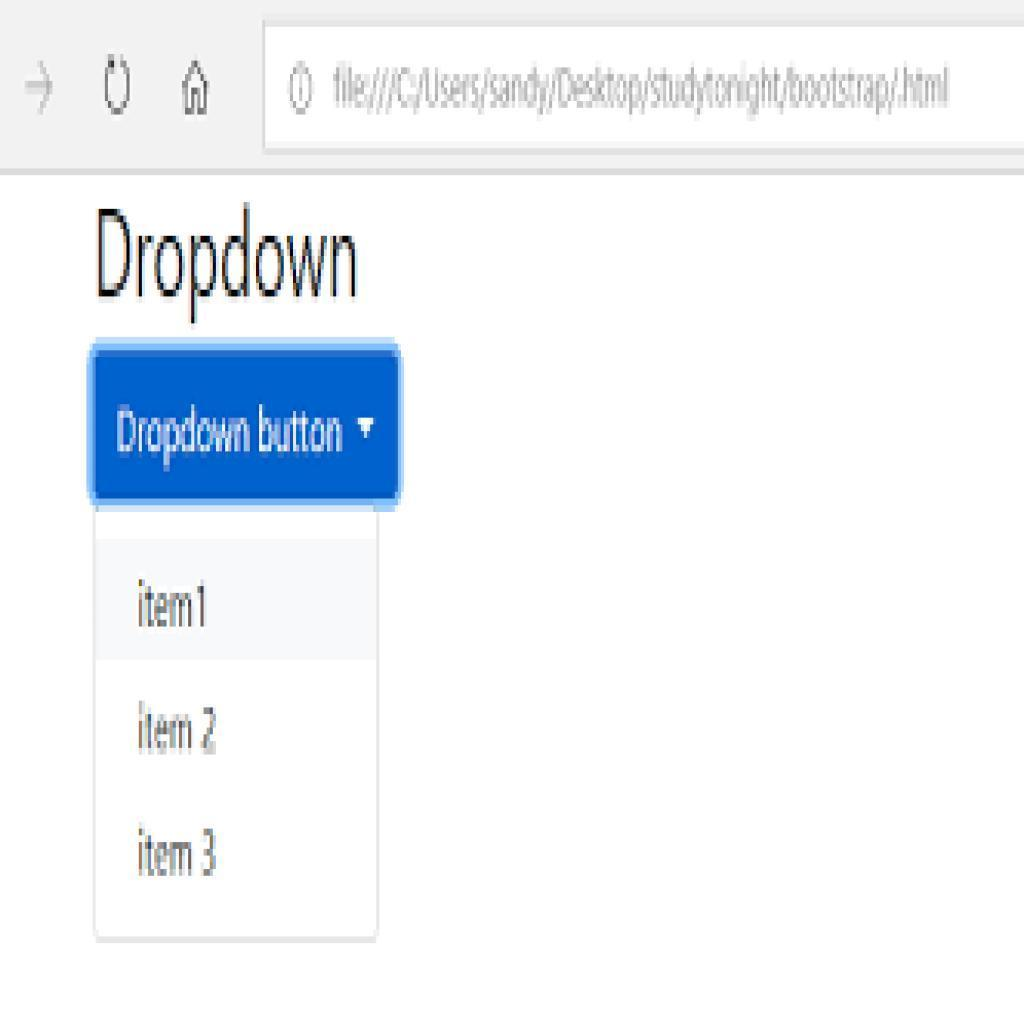dropdown: (88, 338, 405, 511)
icon: (101, 51, 141, 122), (20, 55, 62, 122), (180, 62, 217, 123)
